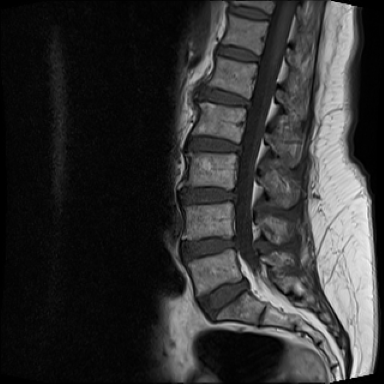Degenerative Disc Disease (DDD): (182, 131, 245, 157), (173, 183, 240, 207)
Lumbar Disc Bulge (LDB): (193, 272, 253, 324), (176, 226, 242, 265)
Normal IVD: (194, 77, 254, 114), (213, 38, 263, 69), (225, 1, 273, 25)
Spinal Stenosis (SS): (221, 226, 247, 258)
